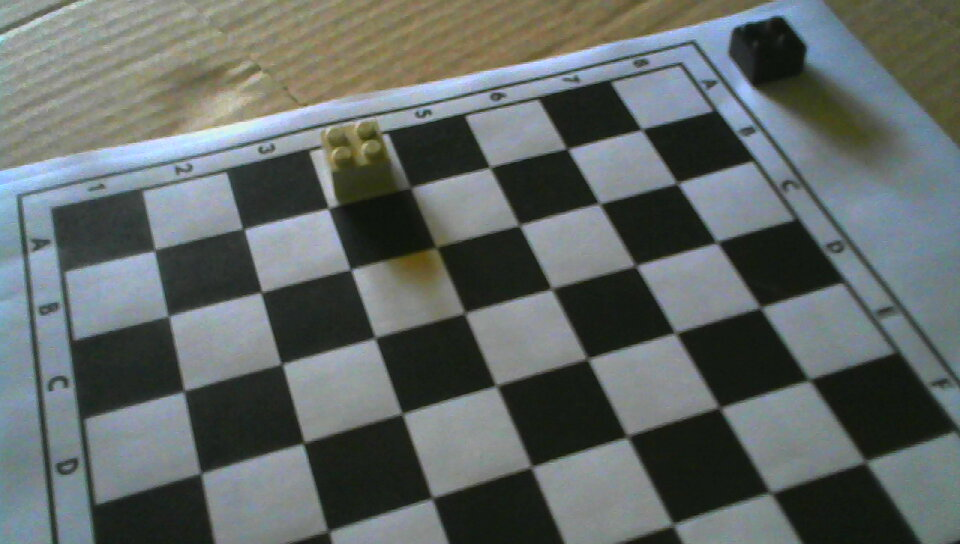bp: (727, 15, 807, 87)
wp: (318, 118, 394, 195)
